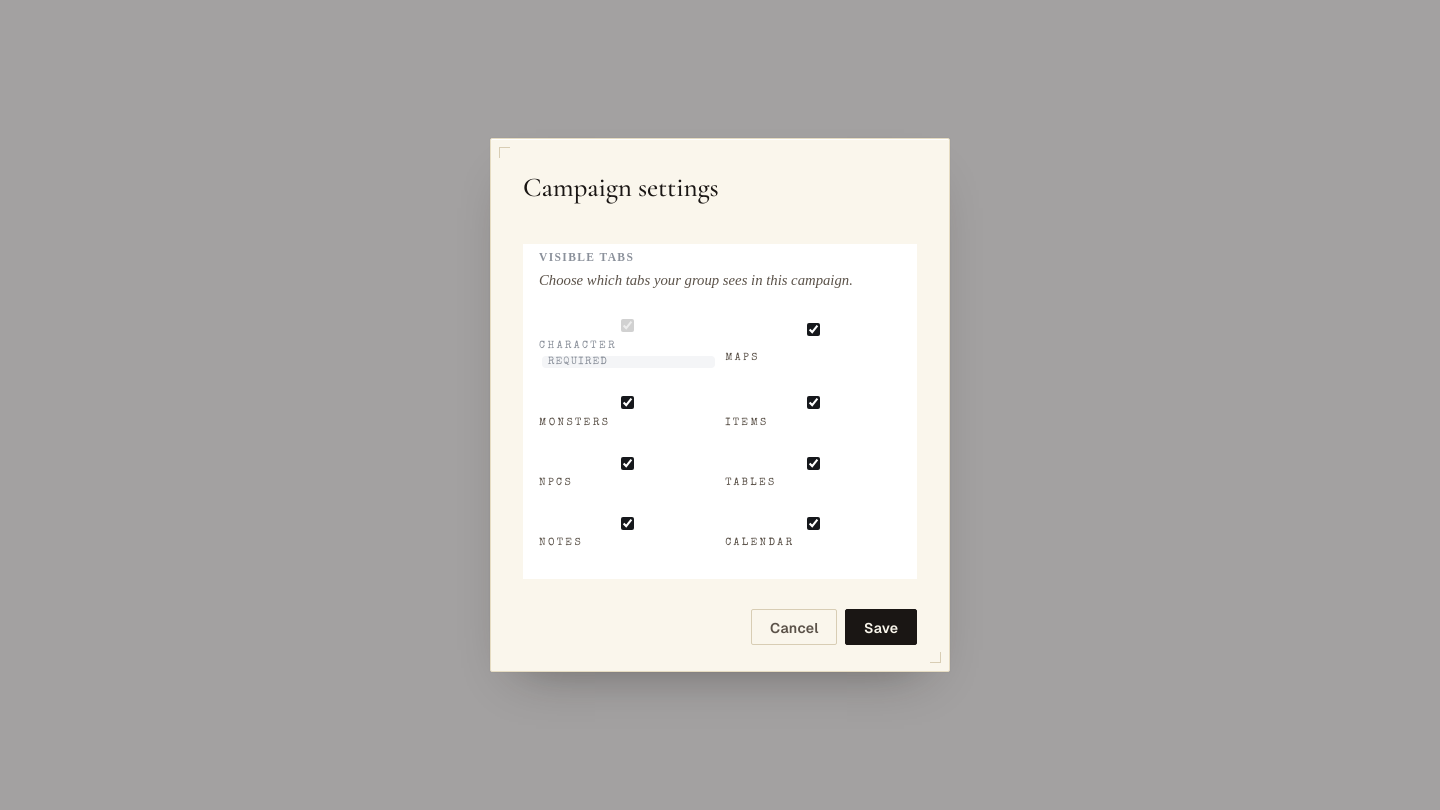
Test: CampaignSettingsModal › shows a fallback message for a failure that is not an Error
Click the button "Save".
click(881, 627)  # box [845,609,917,645]
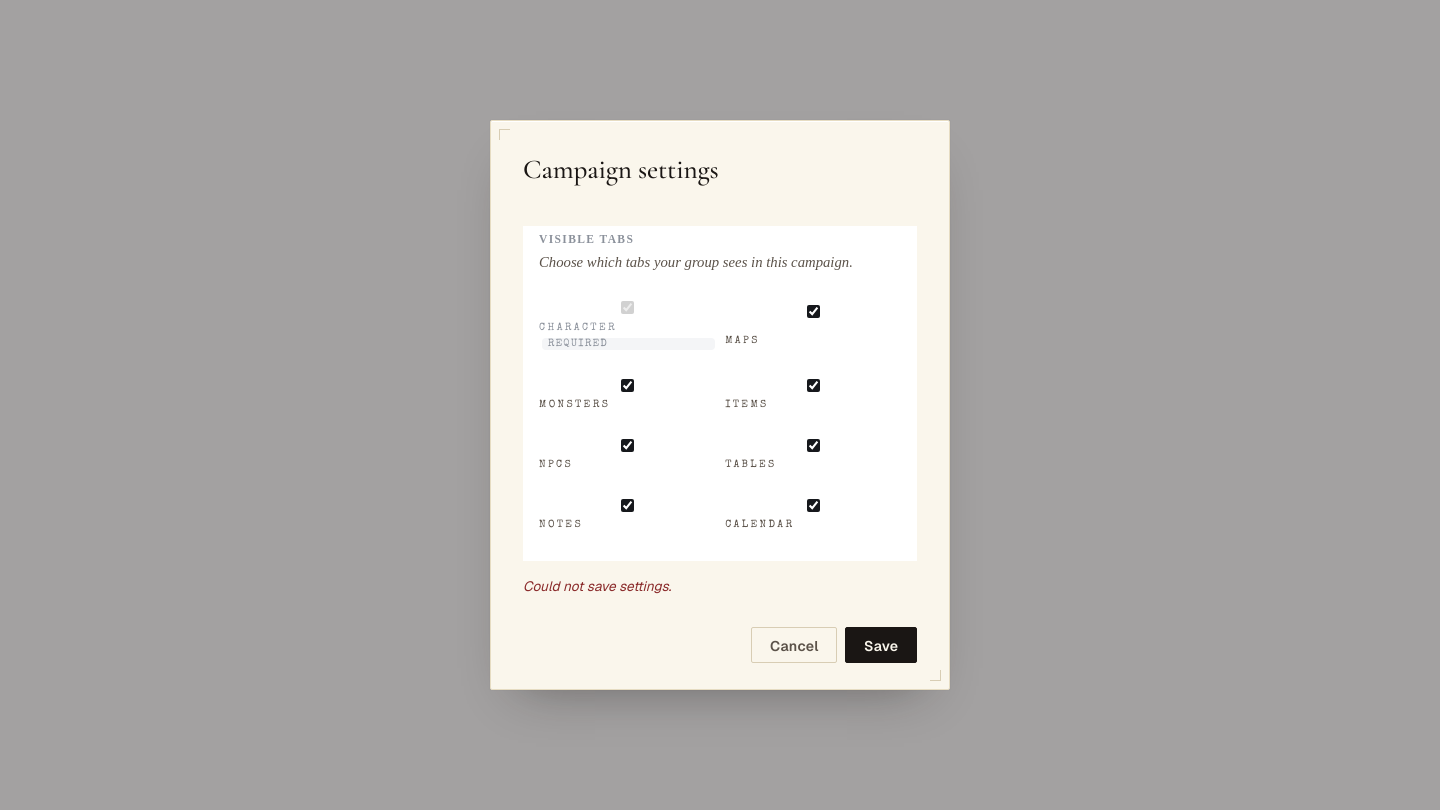
Expected: the text "Could not save settings." is shown, [523,577,671,595]
